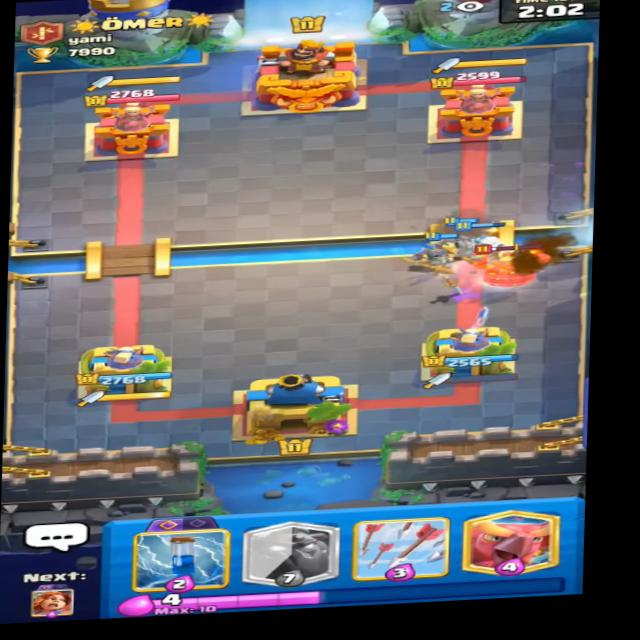goblin-demolisher: (469, 239, 560, 289)
